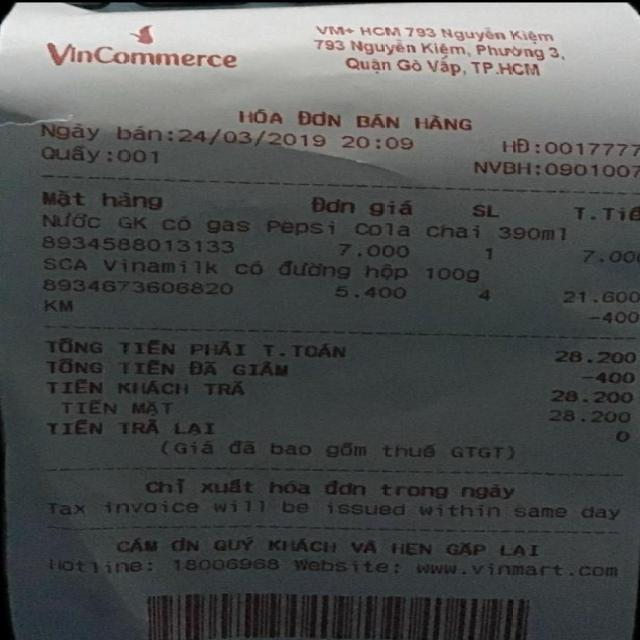Date: (177, 124, 327, 158)
Store_Name: (40, 21, 251, 85)
Total_Amount: (36, 333, 639, 365)
